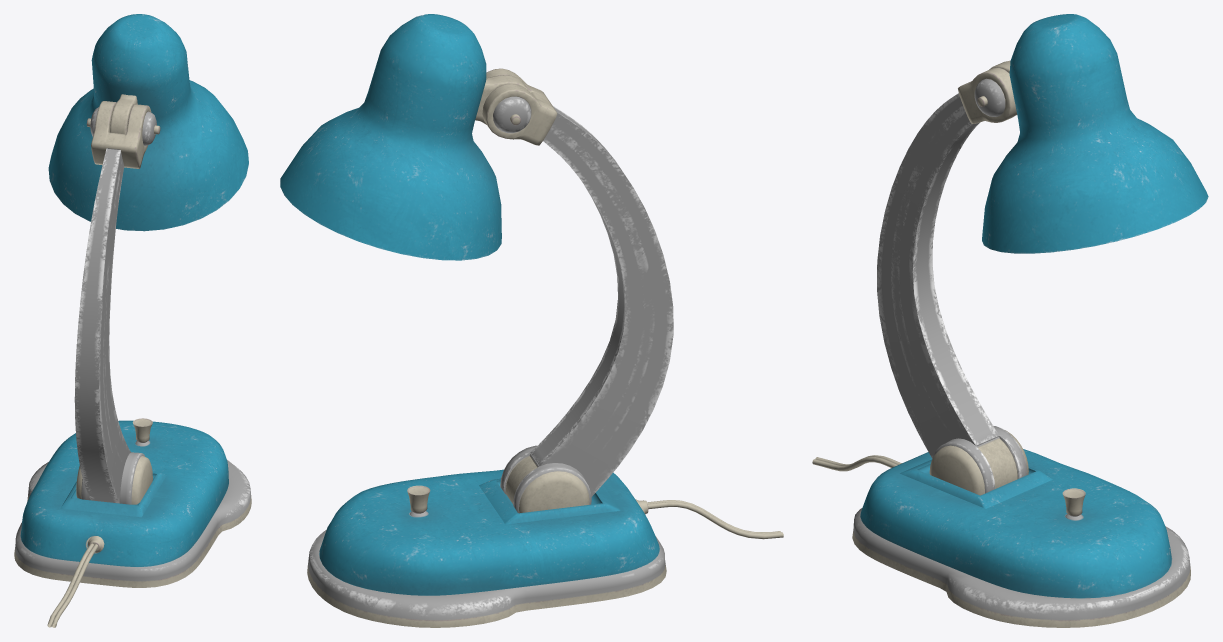
Rendered from platform1.glb.
3 renders of one model, left to right at view 1: azimuth 30°, elevation 25°; view 2: azimuth 150°, elevation 25°; view 3: azimuth 270°, elevation 25°, orthographic. The views are drawn at different scales.
Parts seen in each view (by area): view 1: L_Lamp.001, L_Lamp.002, Provod; view 2: L_Lamp.001, L_Lamp.002, Provod; view 3: L_Lamp.001, L_Lamp.002, Provod.
Part boxes in pixels (box(x1,y1,x2,y2)): L_Lamp.001: box(14, 101, 251, 587); L_Lamp.002: box(48, 14, 248, 231); Provod: box(47, 543, 98, 627); L_Lamp.001: box(307, 68, 673, 627); L_Lamp.002: box(280, 14, 529, 260); Provod: box(647, 500, 783, 539); L_Lamp.001: box(852, 67, 1190, 627); L_Lamp.002: box(982, 14, 1208, 253); Provod: box(812, 455, 901, 471).
Size of what is drawn, in the model's own units: 0.2892 by 0.4339 by 0.2808.
Materials: 1 (1 with a texture image).
